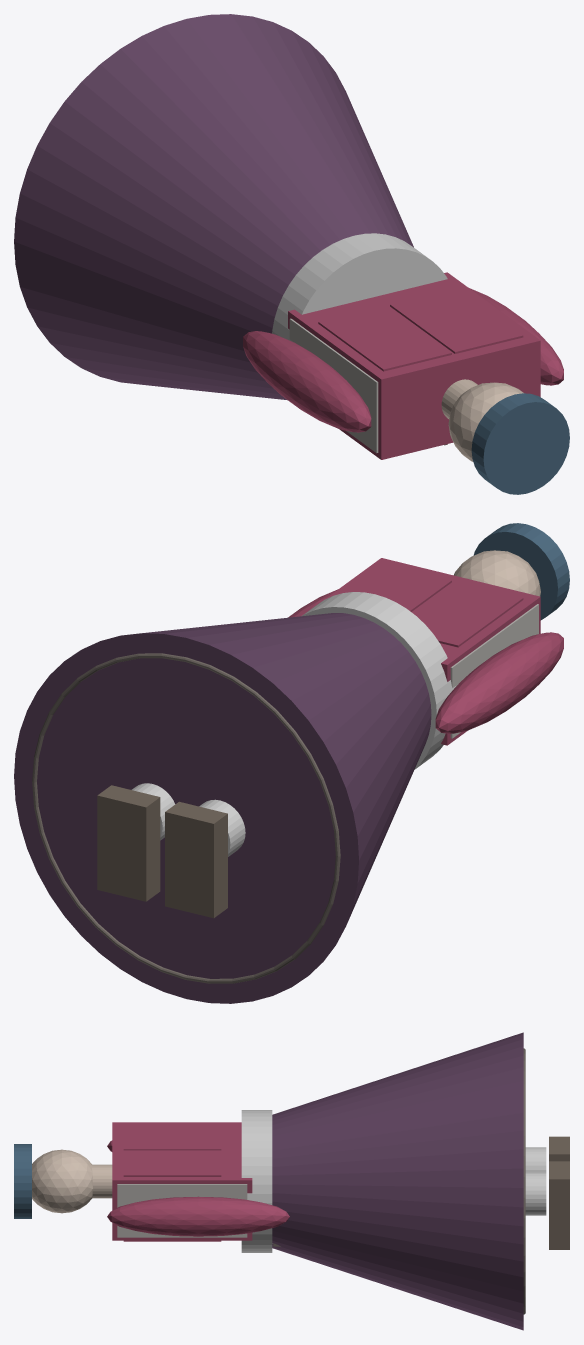
Rendered from MASTER_141_STAGE3_DETAIL.glb.
The picture shows the model from 3 angles, top to bottom: view 1: azimuth 30°, elevation 25°; view 2: azimuth 150°, elevation 25°; view 3: azimuth 270°, elevation 25°; orthographic projection. The views are drawn at different scales.
Parts seen in each view (by area): view 1: slot_lower_main__fund_i_gjatë, slot_upper_inner__këmishë, slot_waist__brez, slot_headwear__mbulesë_koke, slot_upper_inner_sleeve_L, slot_upper_outer__jelek/xhamadan_L, slot_upper_outer__jelek/xhamadan_R, mannequin_torso, mannequin_head, slot_upper_inner_sleeve_R, mannequin_neck; view 2: slot_lower_main__fund_i_gjatë, slot_footwear__opinga_R, slot_footwear__opinga_L, slot_upper_inner_sleeve_L, slot_waist__brez, detail_skirt_hem, slot_upper_outer__jelek/xhamadan_L, slot_headwear__mbulesë_koke, slot_upper_inner__këmishë, slot_upper_outer__jelek/xhamadan_R, mannequin_head, mannequin_torso (+2 smaller); view 3: slot_lower_main__fund_i_gjatë, slot_upper_inner_sleeve_R, slot_upper_inner__këmishë, slot_waist__brez, mannequin_head, slot_upper_outer__jelek/xhamadan_R, slot_upper_outer__jelek/xhamadan_L, mannequin_torso, slot_footwear__opinga_R, slot_headwear__mbulesë_koke, slot_legwear__çorape_R, detail_skirt_hem (+3 smaller).
Boxes of the visible parts, left/top/right/bottom form: slot_lower_main__fund_i_gjatë: left=14, top=14, right=413, bottom=400; slot_upper_inner__këmishë: left=288, top=272, right=540, bottom=459; slot_waist__brez: left=272, top=233, right=447, bottom=341; slot_headwear__mbulesë_koke: left=471, top=393, right=569, bottom=494; slot_upper_inner_sleeve_L: left=243, top=331, right=371, bottom=432; slot_upper_outer__jelek/xhamadan_L: left=318, top=305, right=451, bottom=371; slot_upper_outer__jelek/xhamadan_R: left=390, top=288, right=523, bottom=353; mannequin_torso: left=289, top=318, right=378, bottom=453; mannequin_head: left=448, top=382, right=523, bottom=461; slot_upper_inner_sleeve_R: left=469, top=288, right=563, bottom=385; mannequin_neck: left=441, top=379, right=477, bottom=419; slot_lower_main__fund_i_gjatë: left=14, top=613, right=431, bottom=1003; slot_footwear__opinga_R: left=97, top=785, right=160, bottom=901; slot_footwear__opinga_L: left=165, top=801, right=227, bottom=918; slot_upper_inner_sleeve_L: left=435, top=632, right=563, bottom=733; slot_waist__brez: left=301, top=592, right=456, bottom=769; detail_skirt_hem: left=32, top=653, right=340, bottom=983; slot_upper_outer__jelek/xhamadan_L: left=412, top=581, right=523, bottom=647; slot_headwear__mbulesë_koke: left=473, top=523, right=569, bottom=620; slot_upper_inner__këmishë: left=323, top=558, right=540, bottom=745; slot_upper_outer__jelek/xhamadan_R: left=344, top=564, right=451, bottom=611; mannequin_head: left=454, top=550, right=540, bottom=596; mannequin_torso: left=450, top=604, right=538, bottom=738; slot_lower_main__fund_i_gjatë: left=272, top=1032, right=523, bottom=1330; slot_upper_inner_sleeve_R: left=107, top=1196, right=289, bottom=1236; slot_upper_inner__këmishë: left=112, top=1122, right=252, bottom=1240; slot_waist__brez: left=241, top=1110, right=272, bottom=1252; mannequin_head: left=32, top=1149, right=93, bottom=1213; slot_upper_outer__jelek/xhamadan_R: left=123, top=1150, right=221, bottom=1241; slot_upper_outer__jelek/xhamadan_L: left=123, top=1124, right=221, bottom=1150; mannequin_torso: left=117, top=1184, right=247, bottom=1237; slot_footwear__opinga_R: left=549, top=1161, right=569, bottom=1249; slot_headwear__mbulesë_koke: left=14, top=1144, right=31, bottom=1218; slot_legwear__çorape_R: left=525, top=1172, right=546, bottom=1215; detail_skirt_hem: left=523, top=1048, right=525, bottom=1314.
Bounding box in the file's own units: 0.9181 × 0.9181 × 1.71.
